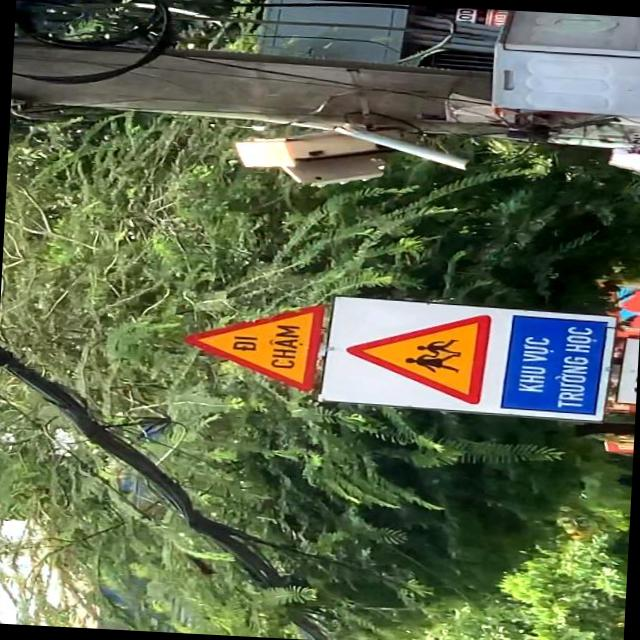W-225: (340, 305, 494, 405)
W-245a: (180, 296, 326, 390)
